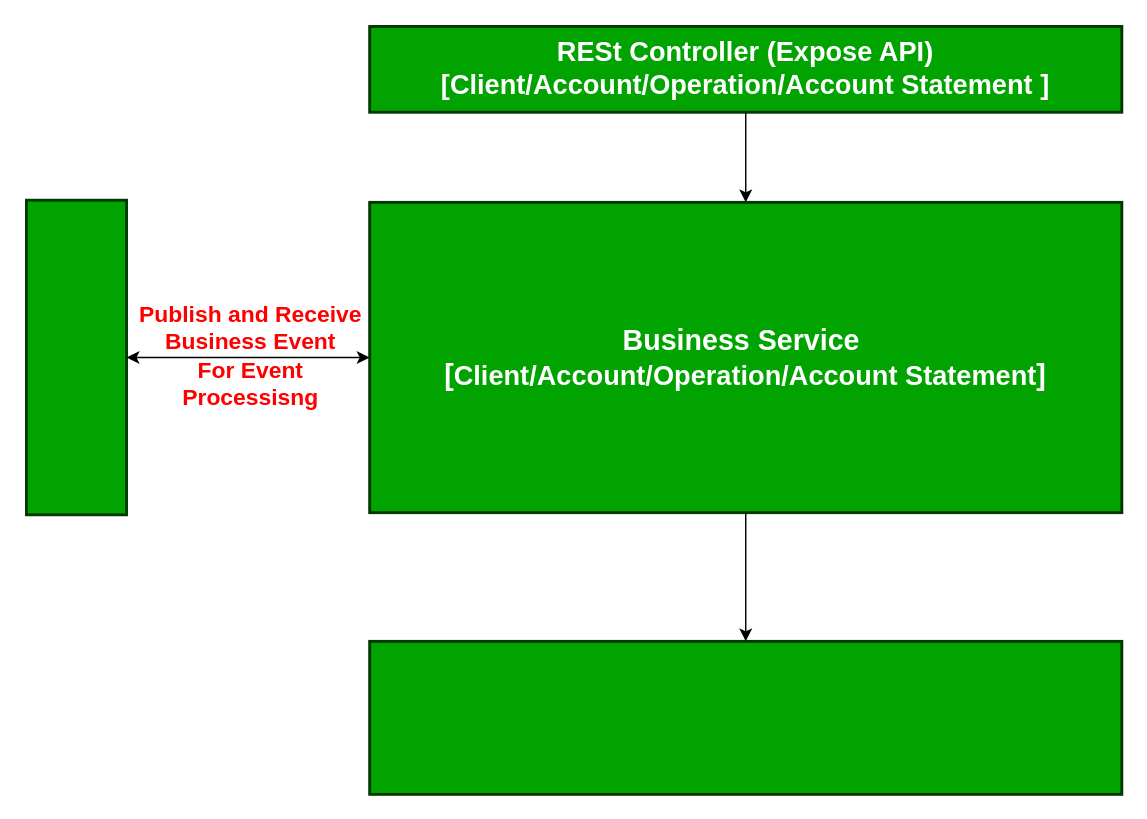
The diagram is 1147 pixels wide and 819 high, and some of its shapes have lost their labels. The shapes that lost their labels are listed below. From the top down, each one's box as (x1, y1, x2, y2) in pixels, then its label:
(24, 198, 127, 516): Spring Event Bus
(368, 639, 1123, 795): DAO Service [ Client/Account/Operation/Account Statement ]
